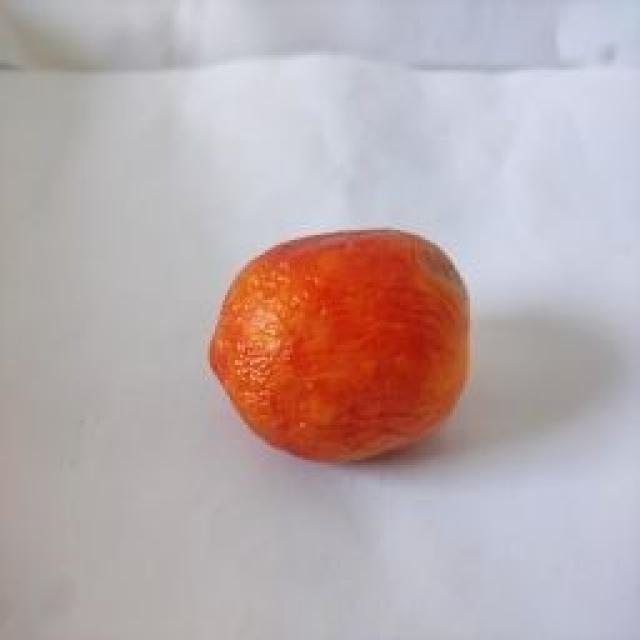overripe: (205, 222, 477, 466)
